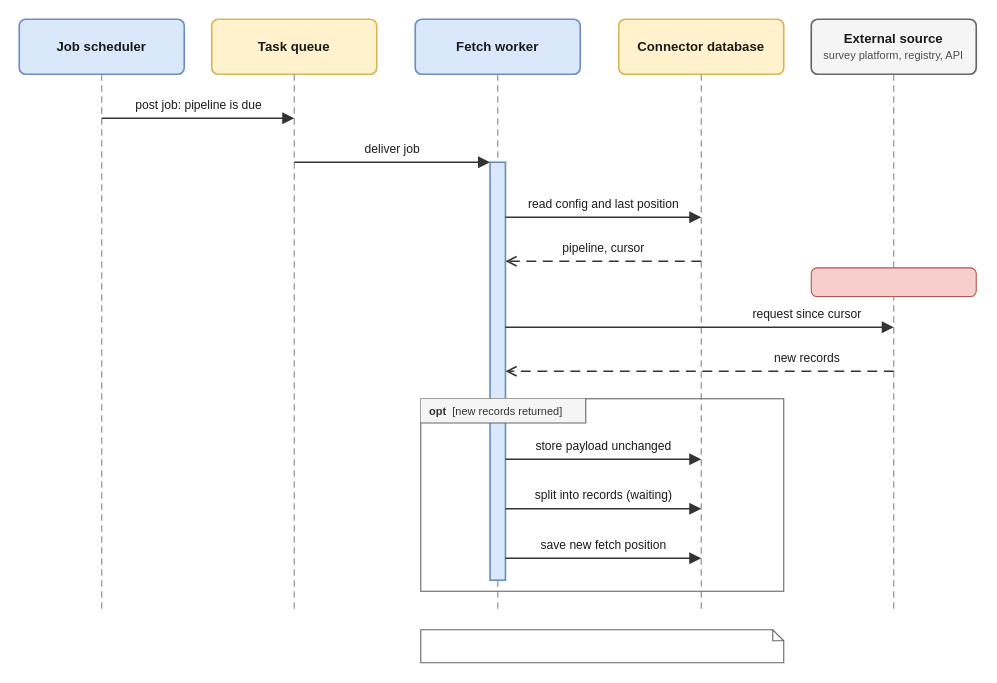
The diagram is 997 pixels wide and 683 high, and some of its shapes have lost their labels. Each missing label, with the box of its shape:
Records now wait for the push worker (Figure 2): (420, 629, 784, 663)
Source authentication: (810, 267, 976, 296)
